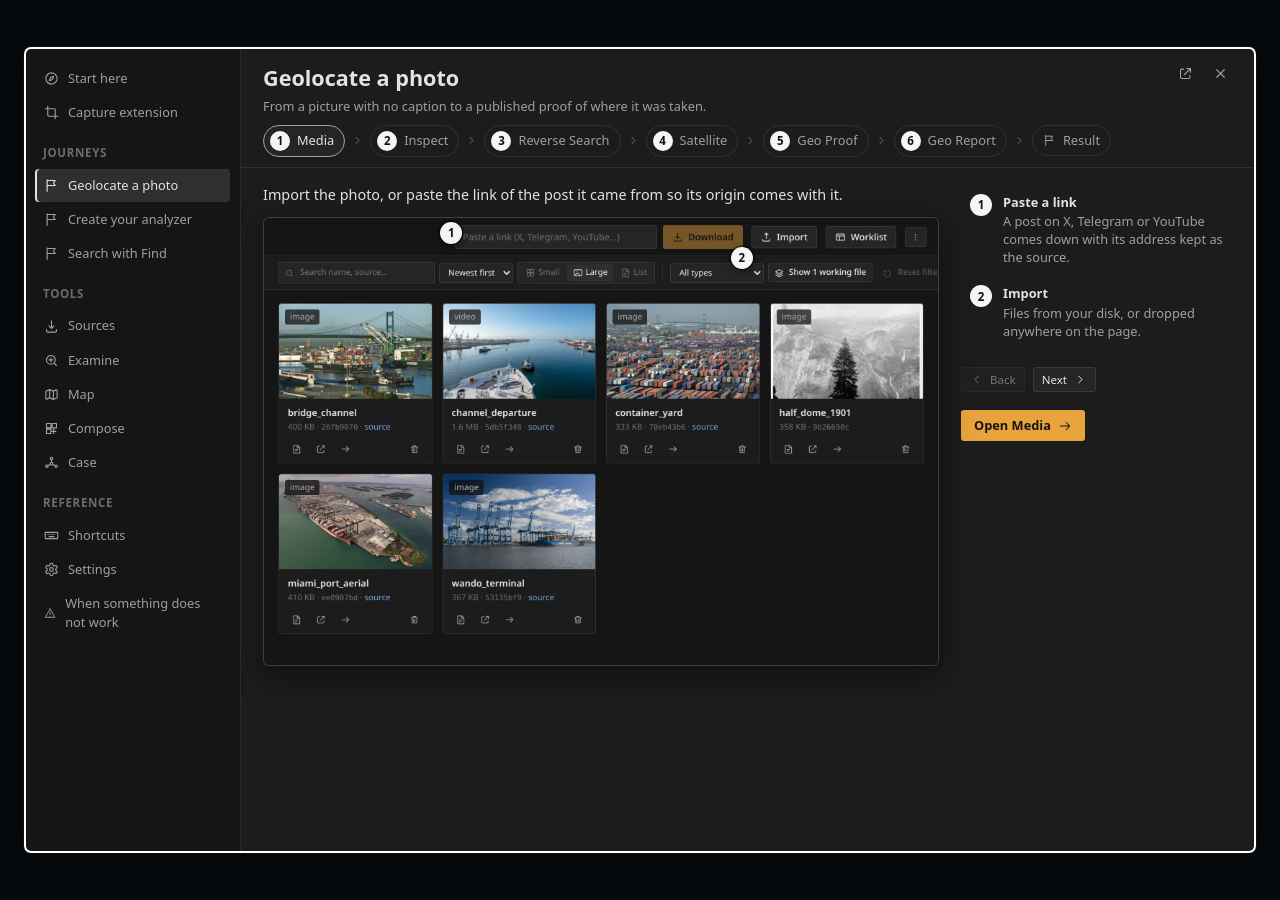
a journey › takes a step on a picture of its own when the tool’s page has none of that moment
The image size is (1280, 900).
Click the button with class "step" showing "4 Satellite": (692,141) [646,125,738,157]
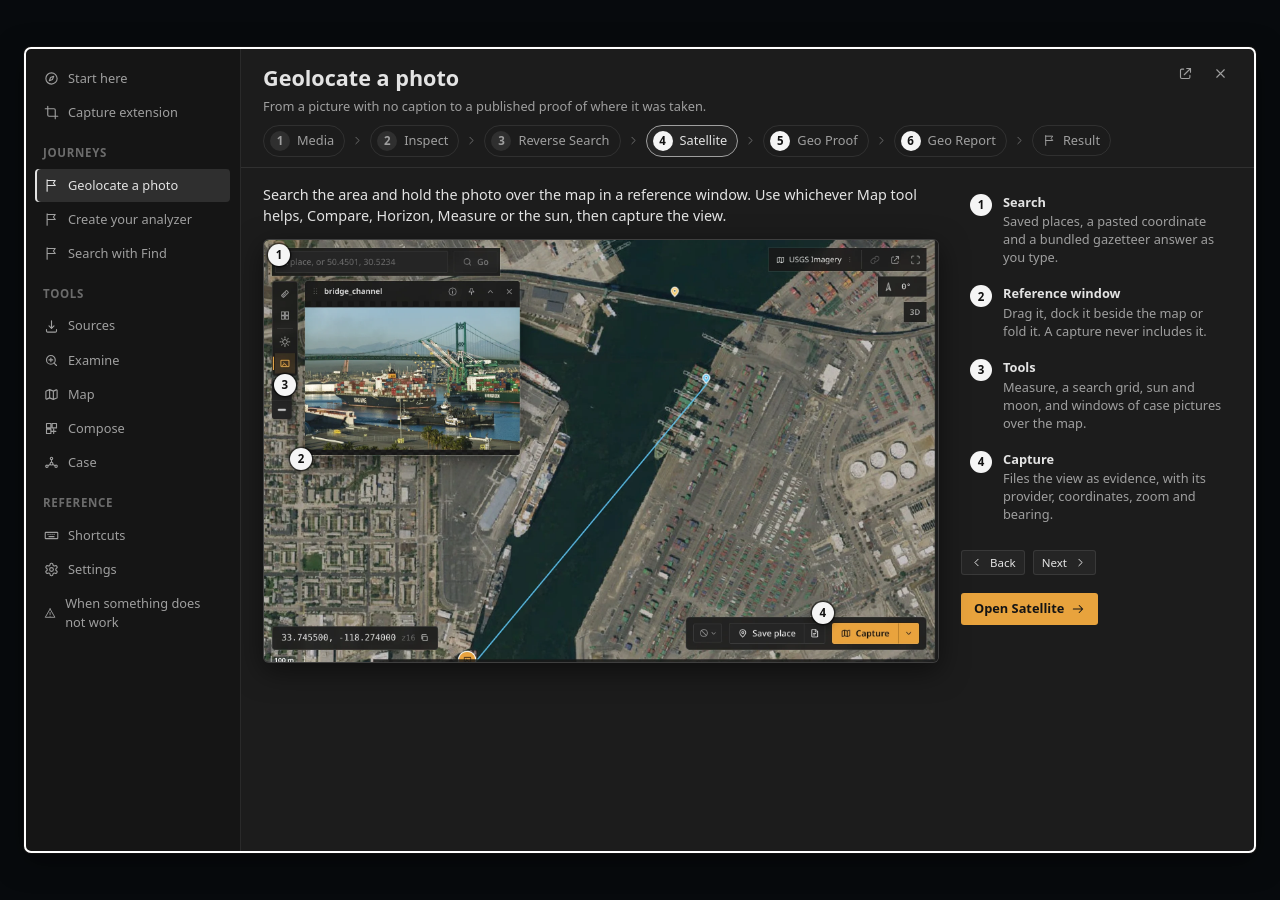
Expected: the text with class "lead" shows "Search the area and hold the photo over the map in a reference window. Use whichever Map tool helps, Compare, Horizon, Measure or the sun, then capture the view", [263,185,917,225]
